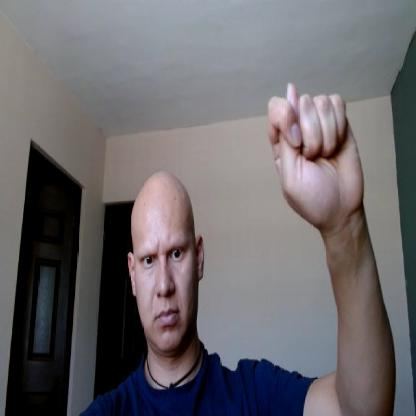T: (267, 79, 365, 220)
